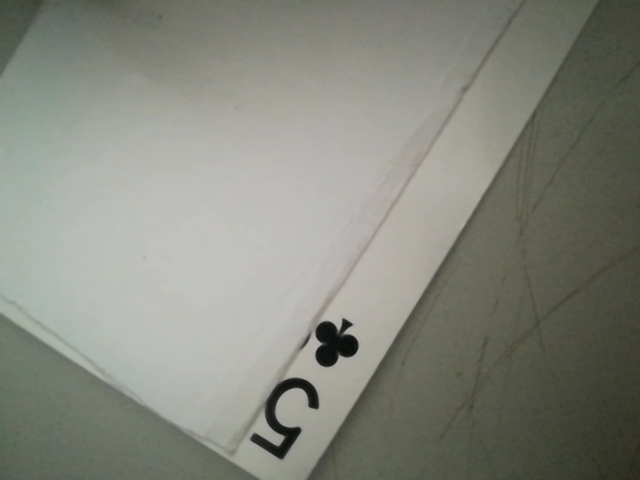mh 5: (244, 309, 373, 473)
